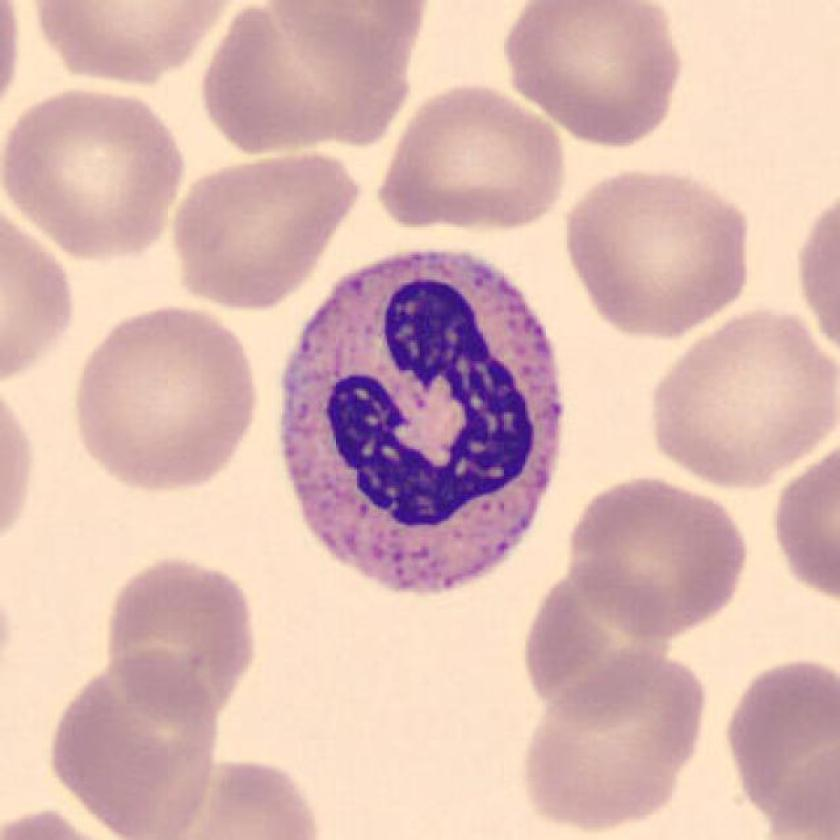neutrophil: (284, 250, 562, 589)
